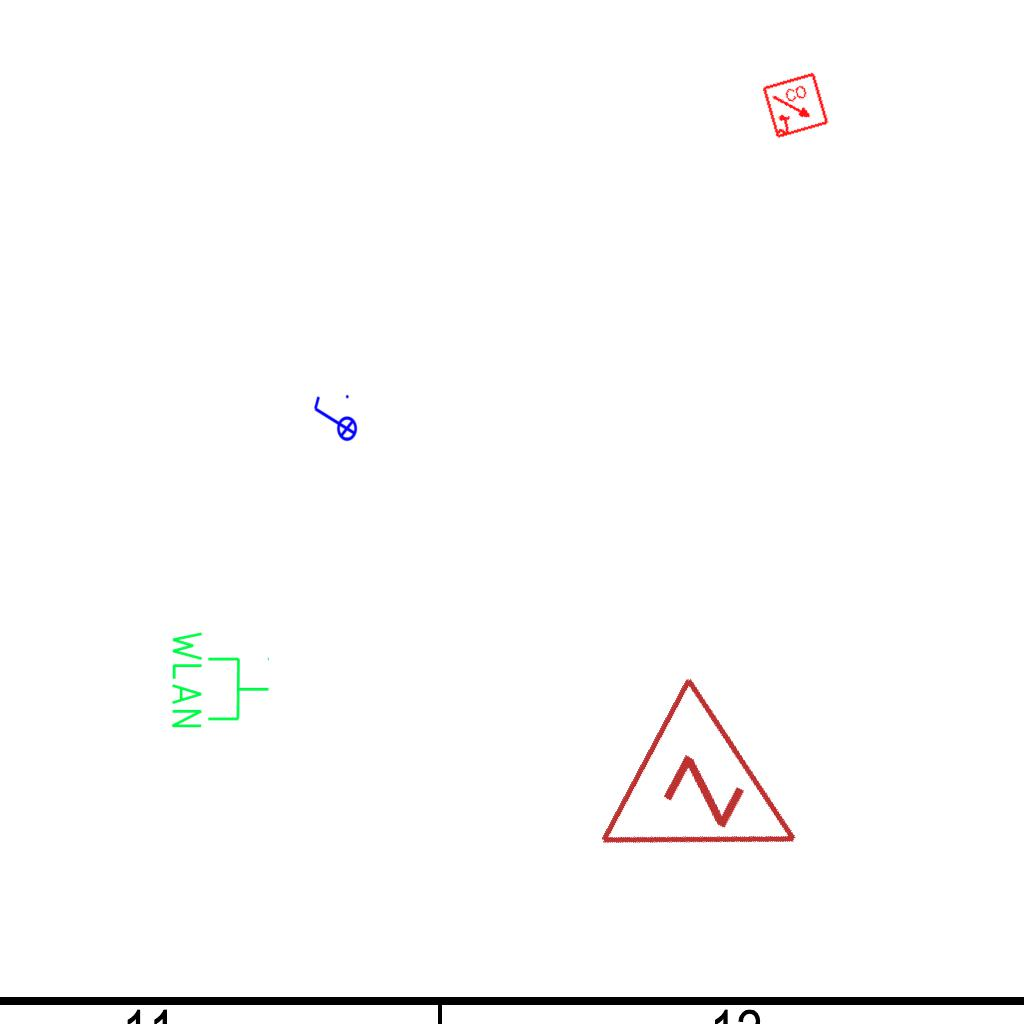Ausschalter_beleuchtet: (310, 392, 358, 448)
ROA_Rauchmelder_optisch_mit_Signalgeber_(Sockelsirene): (761, 71, 831, 141)
WLAN: (168, 627, 272, 732)
Zimmersignalleuchte: (585, 663, 855, 931)
